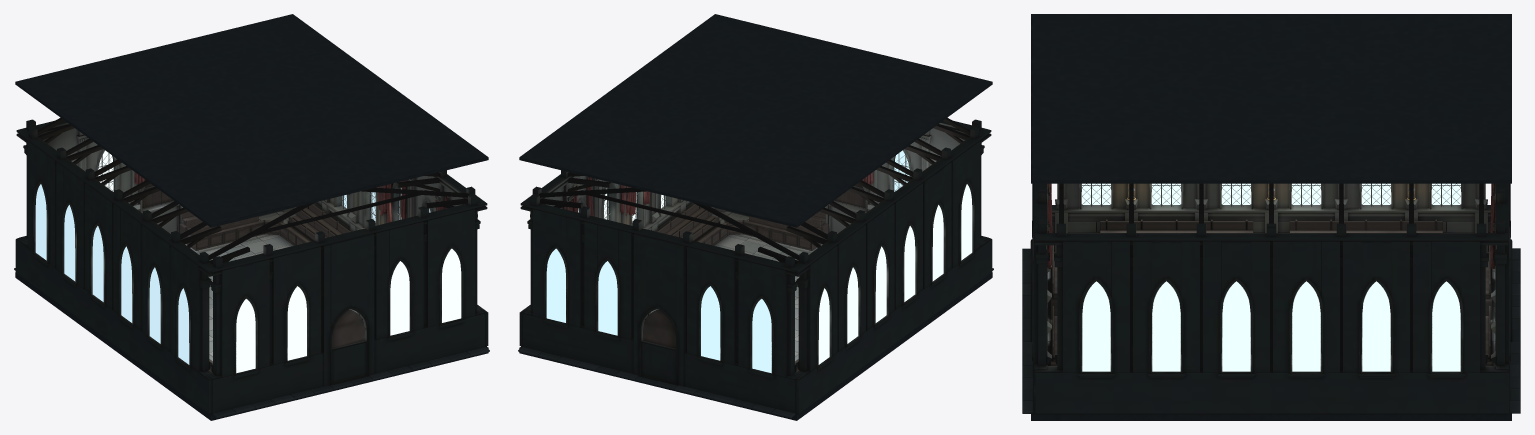
The model's file is dueling-arena.glb.
3 views of the same model, side by side, from view 1: azimuth 30°, elevation 25°; view 2: azimuth 150°, elevation 25°; view 3: azimuth 270°, elevation 25° (orthographic). The views are drawn at different scales.
Visible parts, largest first — view 1: Arena_architecture, Arena_glow, Arena_floor, Arena_seating, Arena_cloth; view 2: Arena_architecture, Arena_glow, Arena_floor, Arena_seating, Arena_cloth; view 3: Arena_architecture, Arena_glow, Arena_floor, Arena_seating, Arena_cloth.
Part boxes in pixels (box(x1,y1,x2,y2)): Arena_architecture: box(15, 14, 488, 413); Arena_glow: box(35, 150, 461, 373); Arena_floor: box(14, 211, 489, 420); Arena_seating: box(179, 204, 441, 372); Arena_cloth: box(134, 172, 459, 222); Arena_architecture: box(519, 14, 992, 413); Arena_glow: box(546, 150, 972, 373); Arena_floor: box(518, 211, 993, 420); Arena_seating: box(566, 204, 828, 372); Arena_cloth: box(563, 172, 873, 216); Arena_architecture: box(1030, 14, 1512, 413); Arena_glow: box(1082, 183, 1460, 371); Arena_floor: box(1022, 248, 1520, 420); Arena_seating: box(1050, 219, 1492, 365); Arena_cloth: box(1047, 183, 1495, 337).
Size of the model in its own units: 27.35 by 18.21 by 34.17.
7 materials, 5 textured.
